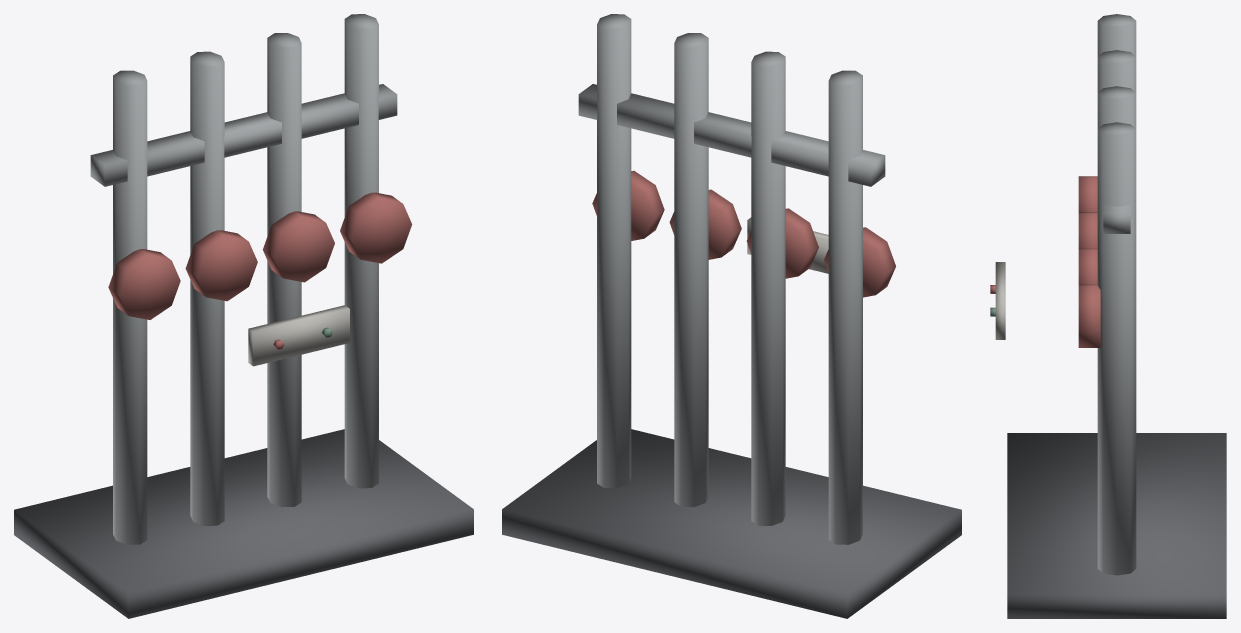
File: steam_manifold__deep.glb
3 views of the same model, side by side, from view 1: azimuth 30°, elevation 25°; view 2: azimuth 150°, elevation 25°; view 3: azimuth 270°, elevation 25° (orthographic). The views are drawn at different scales.
Parts seen in each view (by area): view 1: world; view 2: world; view 3: world.
Boxes of the visible parts, bbox=[...] form: world: bbox=[14, 14, 473, 618]; world: bbox=[502, 14, 961, 618]; world: bbox=[990, 14, 1226, 618].
Bounding box in the file's own units: 0.85 × 1.14 × 0.5258.
